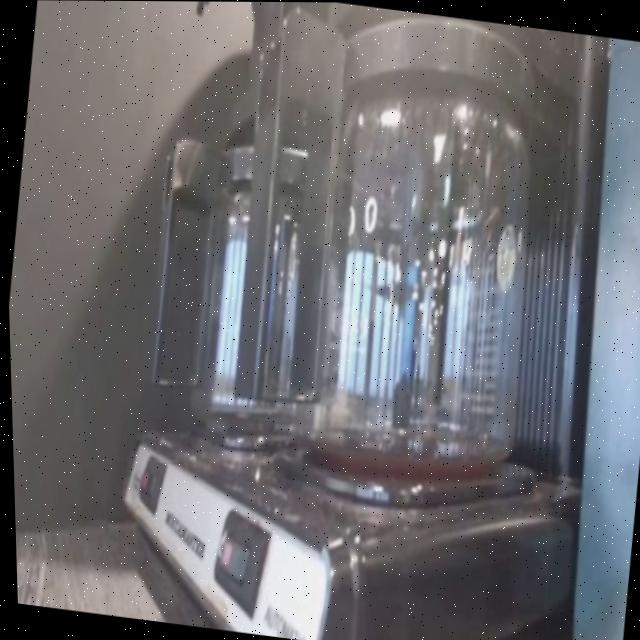nocoffee: (291, 100, 552, 474), (183, 201, 313, 425)
